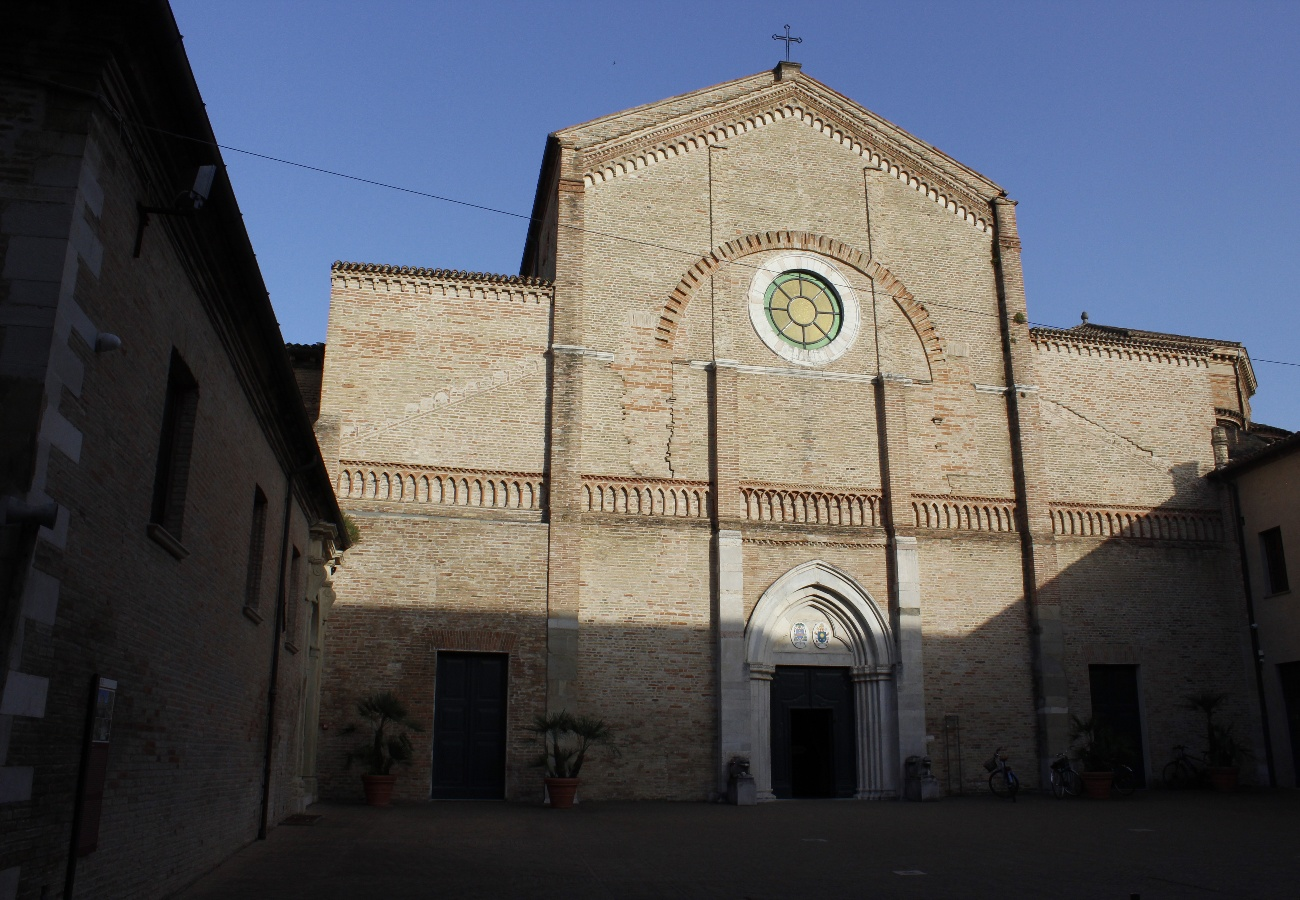Cattedrale Santa Maria Assunta: (330, 66, 1238, 806)
